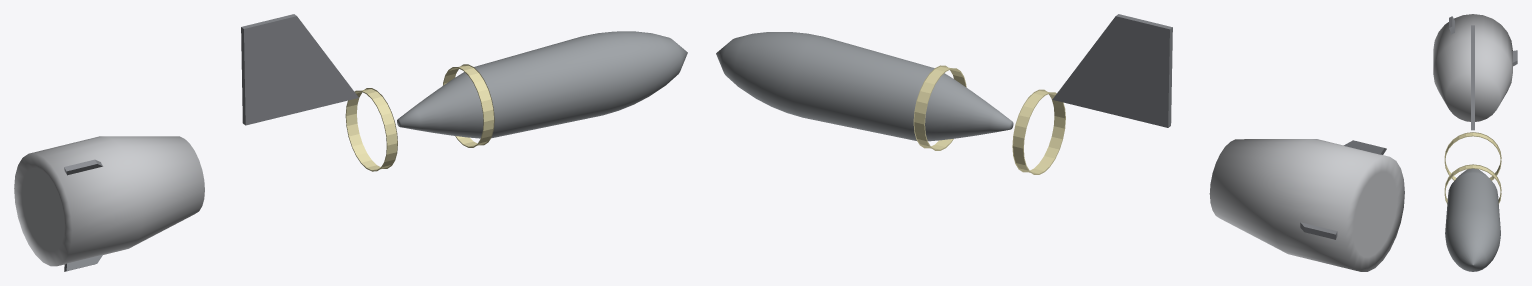
File: RU_ASM_P120_LOD1.fbx
3 views of the same model, side by side, from view 1: azimuth 30°, elevation 25°; view 2: azimuth 150°, elevation 25°; view 3: azimuth 270°, elevation 25° (orthographic). The views are drawn at different scales.
Parts seen in each view (by area): view 1: WPN_RU_ASM_P120_LOD1_Tail, WPN_RU_ASM_P120_LOD1_Body, WPN_RU_ASM_P120_LOD1_Wings, WPN_RU_ASM_P120_LOD1_Marking, WPN_RU_ASM_P120_LOD1_Fins; view 2: WPN_RU_ASM_P120_LOD1_Tail, WPN_RU_ASM_P120_LOD1_Body, WPN_RU_ASM_P120_LOD1_Wings, WPN_RU_ASM_P120_LOD1_Marking, WPN_RU_ASM_P120_LOD1_Fins; view 3: WPN_RU_ASM_P120_LOD1_Tail, WPN_RU_ASM_P120_LOD1_Body, WPN_RU_ASM_P120_LOD1_Marking, WPN_RU_ASM_P120_LOD1_Wings, WPN_RU_ASM_P120_LOD1_Fins.
Part boxes in pixels (x1,y1,x2,y2): WPN_RU_ASM_P120_LOD1_Tail: (14, 136, 204, 266); WPN_RU_ASM_P120_LOD1_Body: (397, 31, 687, 138); WPN_RU_ASM_P120_LOD1_Wings: (241, 14, 358, 125); WPN_RU_ASM_P120_LOD1_Marking: (345, 64, 494, 171); WPN_RU_ASM_P120_LOD1_Fins: (64, 159, 102, 271); WPN_RU_ASM_P120_LOD1_Tail: (1209, 139, 1404, 271); WPN_RU_ASM_P120_LOD1_Body: (716, 32, 1013, 141); WPN_RU_ASM_P120_LOD1_Wings: (1052, 14, 1172, 127); WPN_RU_ASM_P120_LOD1_Marking: (913, 65, 1065, 174); WPN_RU_ASM_P120_LOD1_Fins: (1300, 140, 1386, 239); WPN_RU_ASM_P120_LOD1_Tail: (1433, 14, 1512, 121); WPN_RU_ASM_P120_LOD1_Body: (1445, 168, 1500, 271); WPN_RU_ASM_P120_LOD1_Marking: (1444, 132, 1501, 204); WPN_RU_ASM_P120_LOD1_Wings: (1471, 25, 1474, 130); WPN_RU_ASM_P120_LOD1_Fins: (1449, 16, 1517, 66).
Size of the model in its own units: 5 by 0.8287 by 1.38.
